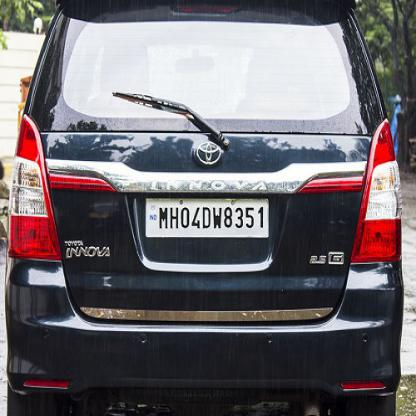license_plate: (145, 197, 268, 236)
